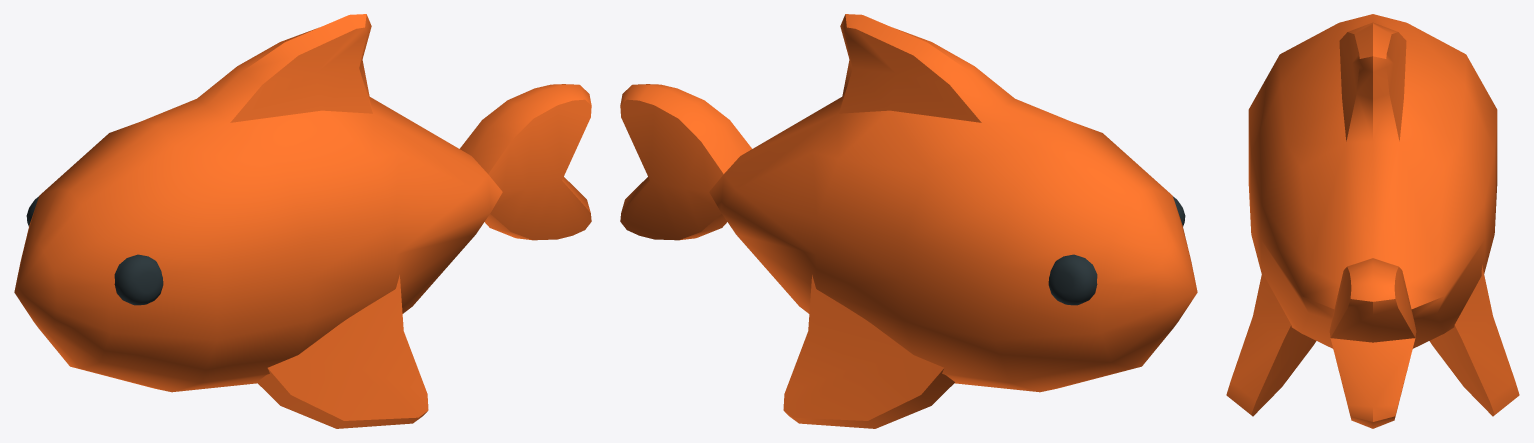
Rendered from fish_small_B.gltf.glb.
3 views of the same model, side by side, from view 1: azimuth 30°, elevation 25°; view 2: azimuth 150°, elevation 25°; view 3: azimuth 270°, elevation 25° (orthographic).
Parts seen in each view (by area): view 1: fish_small_B; view 2: fish_small_B; view 3: fish_small_B.
Part boxes in pixels (left/top/right/bottom): fish_small_B: left=14, top=14, right=591, bottom=428; fish_small_B: left=620, top=14, right=1197, bottom=428; fish_small_B: left=1226, top=14, right=1519, bottom=428.
Bounding box in the file's own units: 0.6187 × 0.3774 × 0.2705.
